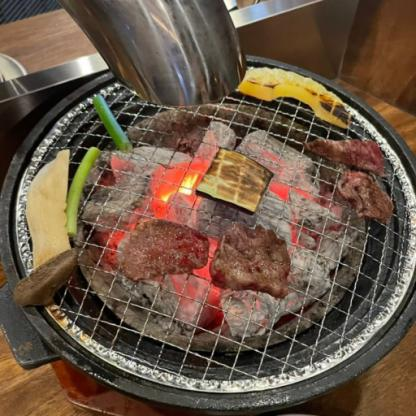Carne: (211, 216, 301, 298), (108, 218, 211, 282)
